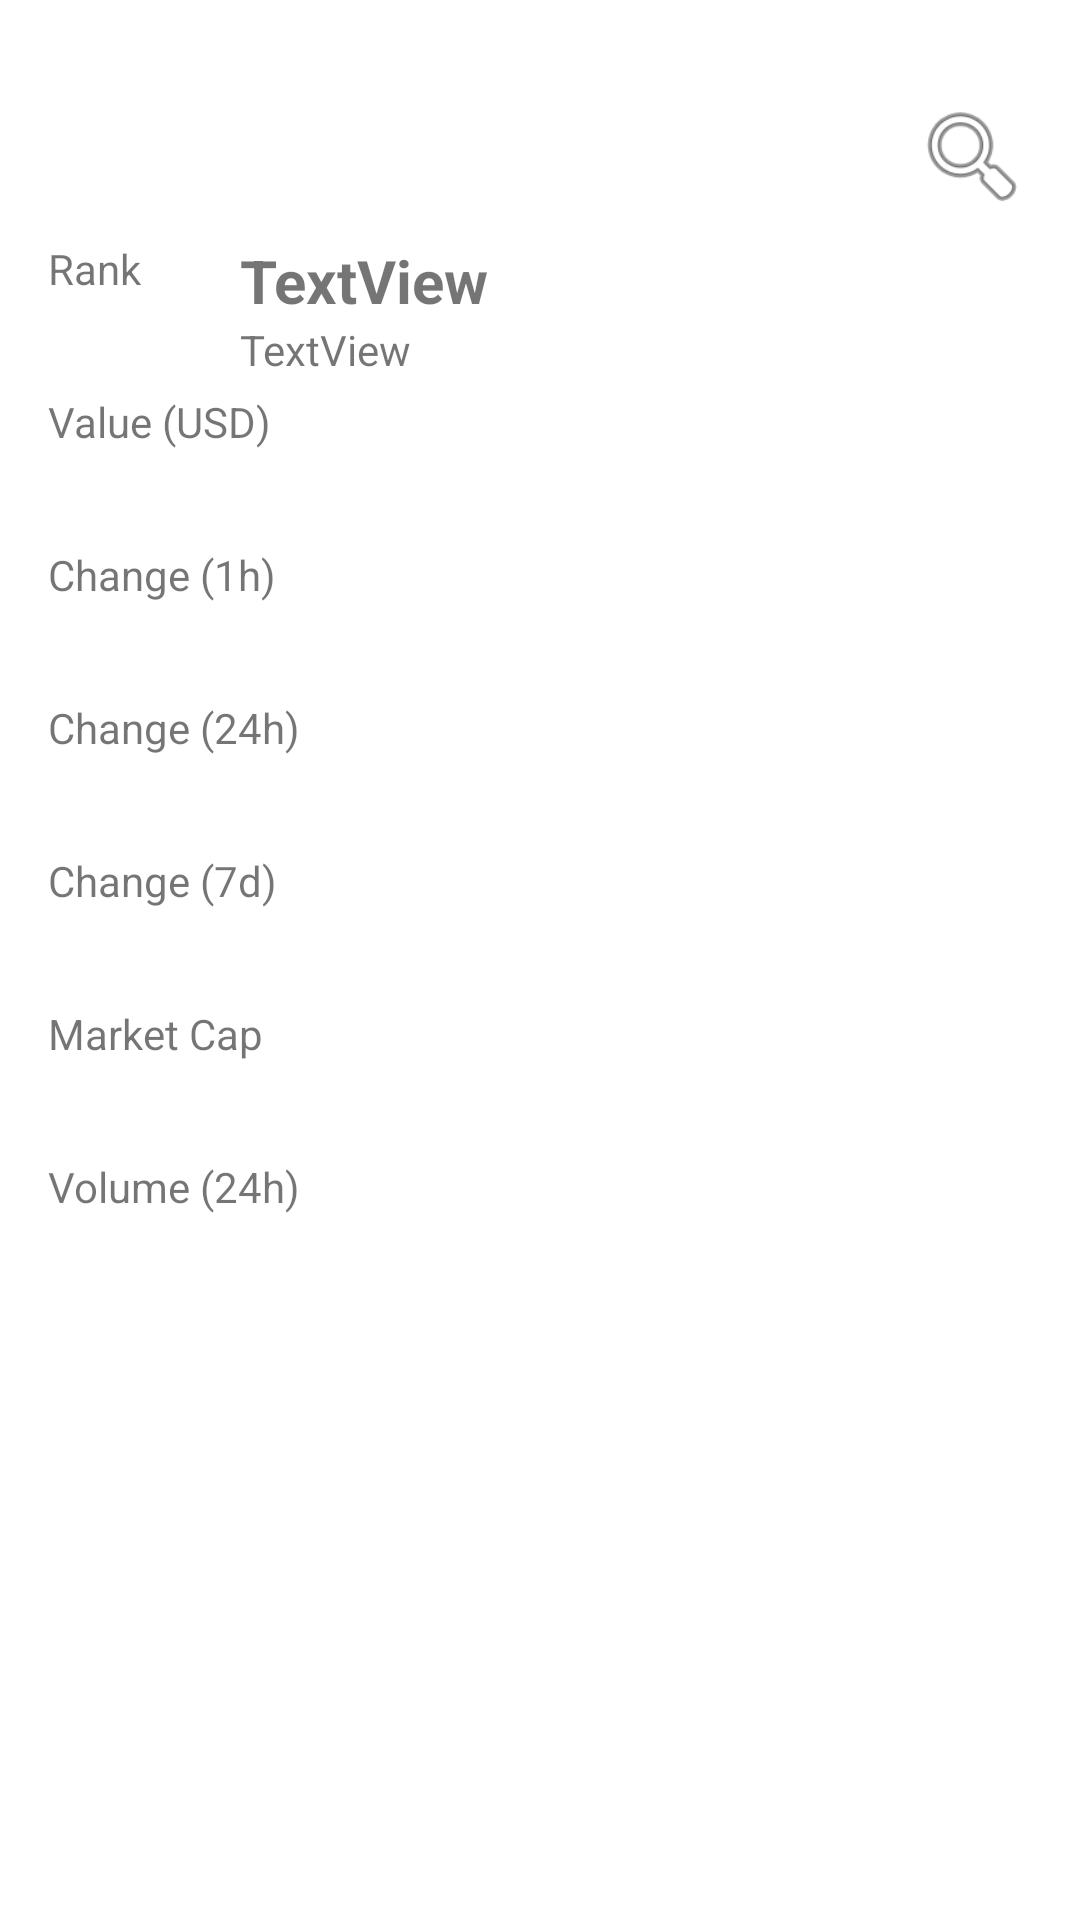

Icon click points for this 1080px x 1920px phone screenshot, format point (x, y):
search: point (971, 156)
